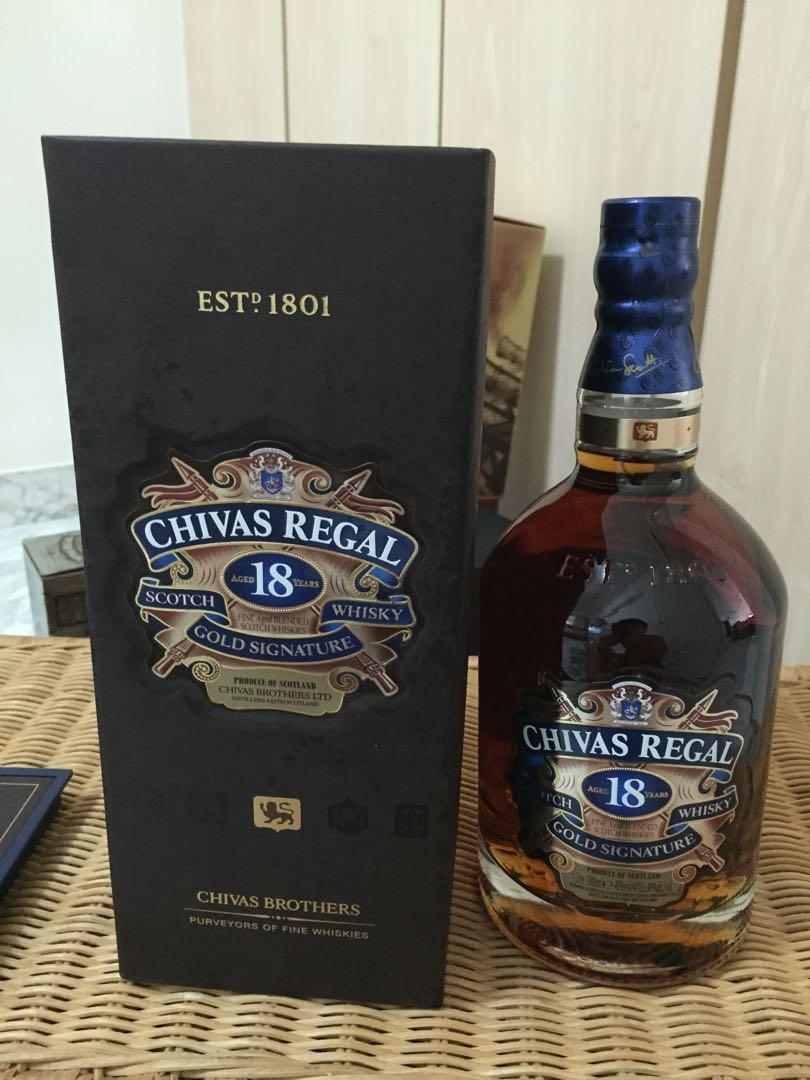Chivas Regal: (469, 186, 796, 995)
